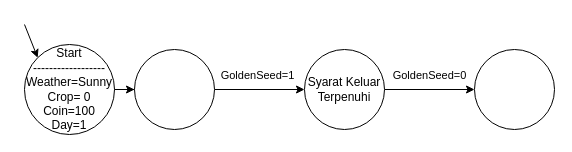
The diagram is 572 pixels wide and 152 high, and some of its shapes have lost their labels. Each missing label, with the centre of its shape:
"Menang" belongs at (x=514, y=89).
"Syarat belum Terpenuhi" belongs at (x=174, y=89).
